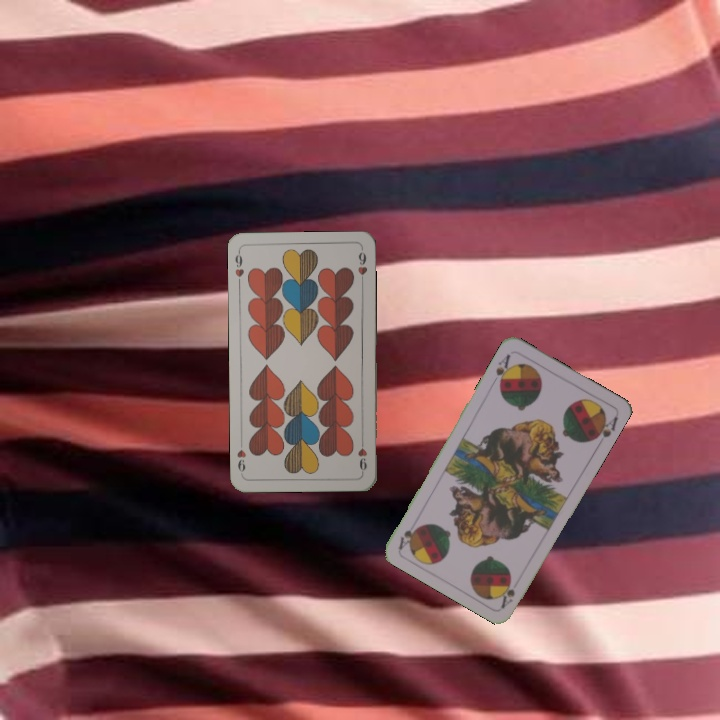H9: (354, 434, 370, 475), (231, 247, 247, 279)
SA: (492, 350, 514, 389), (497, 575, 518, 611)
